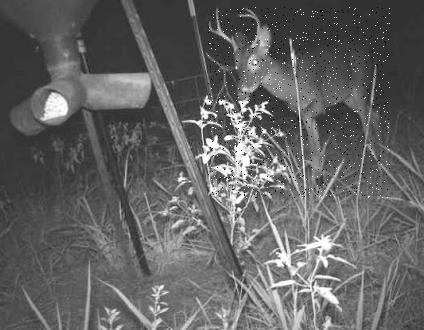Deer: (208, 7, 390, 198)
